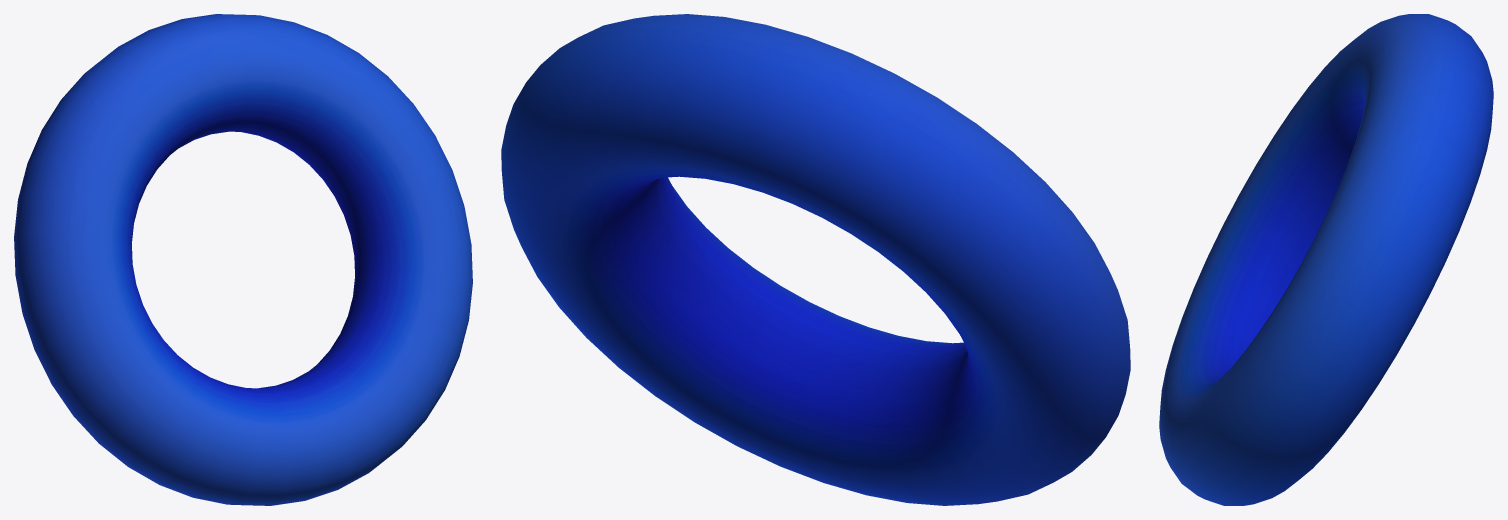
3 renders of one model, left to right at view 1: azimuth 30°, elevation 25°; view 2: azimuth 150°, elevation 25°; view 3: azimuth 270°, elevation 25°, orthographic. The views are drawn at different scales.
Visible parts, largest first — view 1: node_id30; view 2: node_id30; view 3: node_id30.
Boxes of the visible parts, bbox=[...] form: node_id30: bbox=[14, 14, 472, 505]; node_id30: bbox=[501, 14, 1130, 505]; node_id30: bbox=[1159, 14, 1493, 505].
Size of the model in its own units: 0.512 by 0.4584 by 0.318.
1 material, 1 textured.
